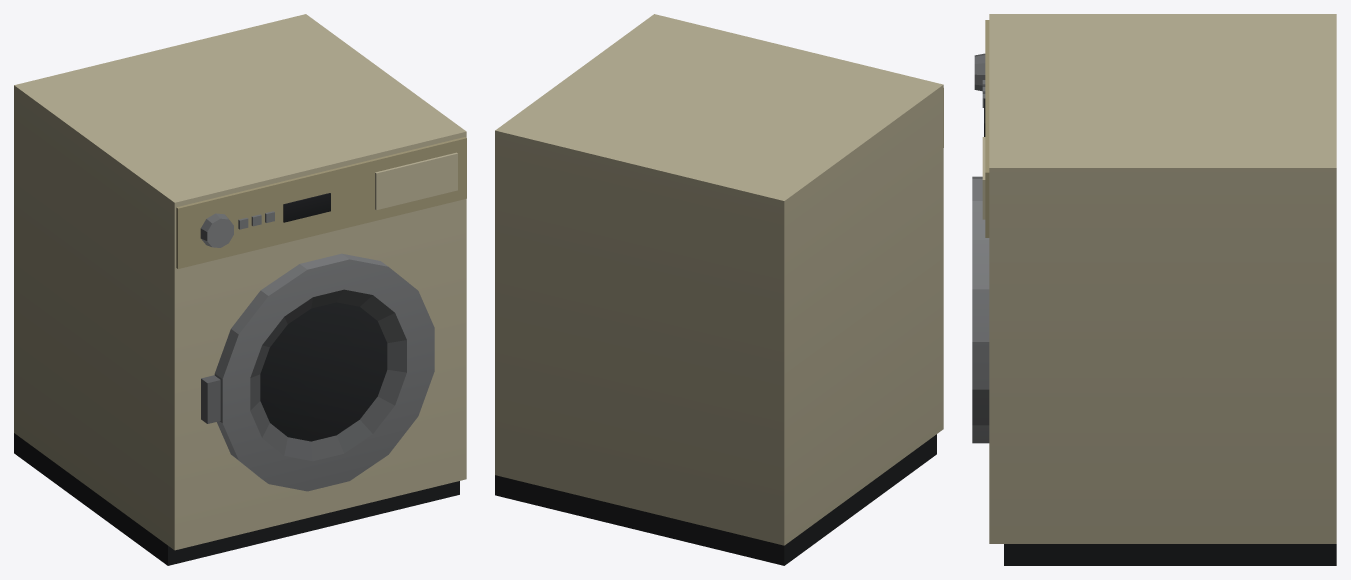
Rendered from appliance.washer.cream.glb.
3 views of the same model, side by side, from view 1: azimuth 30°, elevation 25°; view 2: azimuth 150°, elevation 25°; view 3: azimuth 270°, elevation 25° (orthographic). The views are drawn at different scales.
Visible parts, largest first — view 1: appliance_washer_cream; view 2: appliance_washer_cream; view 3: appliance_washer_cream.
Boxes of the visible parts, x1,y1,x2,y2 form: appliance_washer_cream: (14, 14, 466, 565); appliance_washer_cream: (495, 14, 943, 565); appliance_washer_cream: (972, 14, 1336, 565).
Size of what is drawn, in the model's own units: 0.747 by 0.9 by 0.747.
